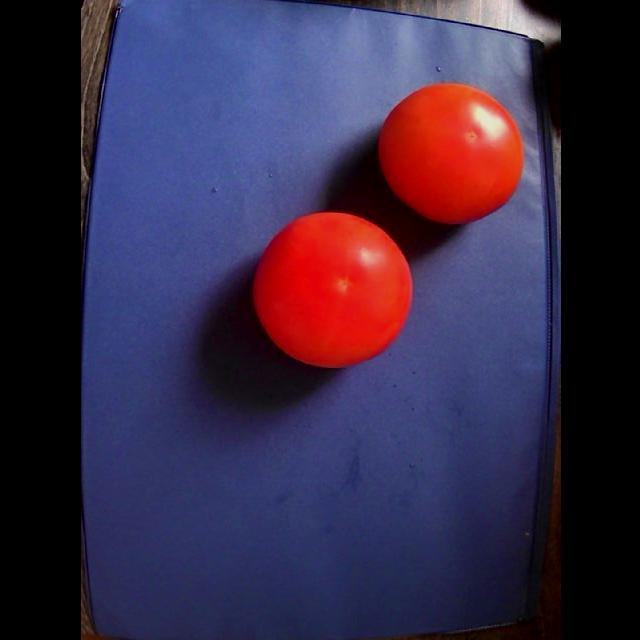tomate: (254, 213, 410, 368), (378, 85, 522, 224)
